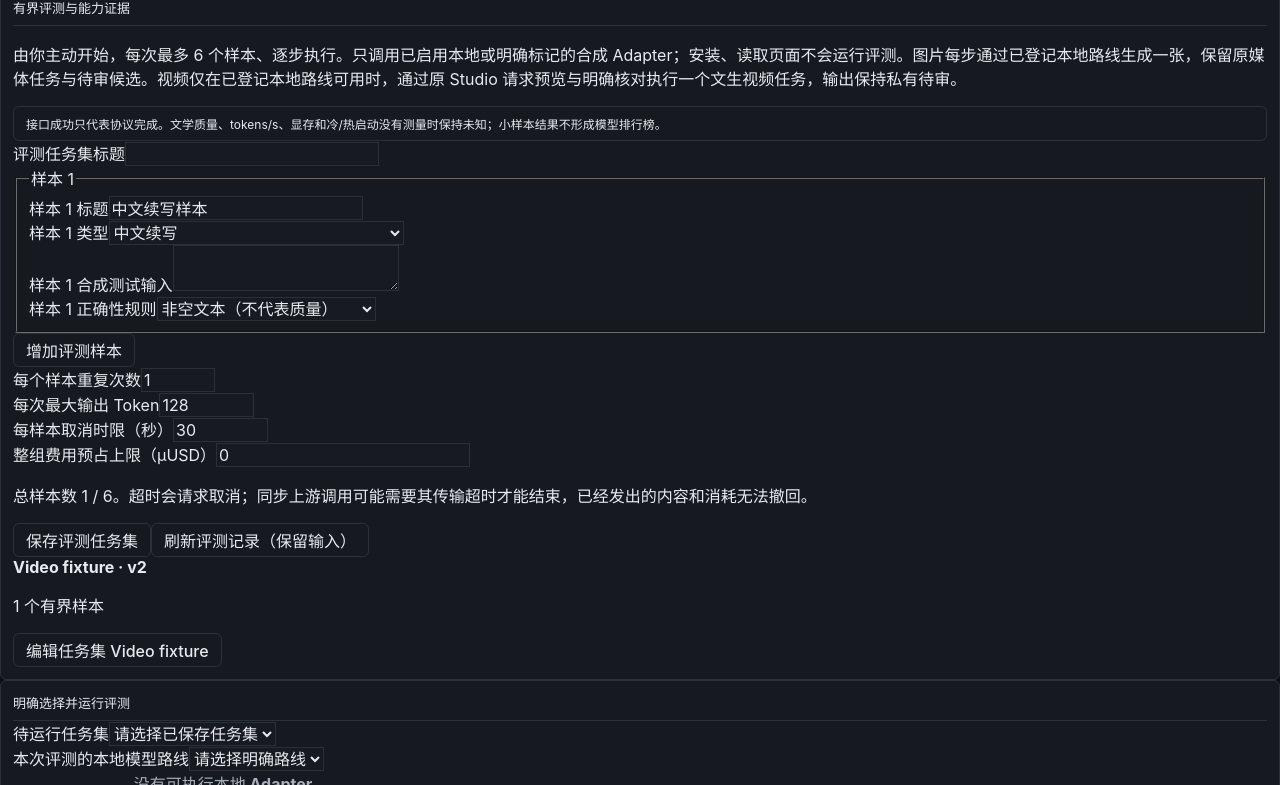
Test: bounded local T2V benchmark › fails closed when an older backend has not admitted local T2V
Step 1. Select "Video fixture · v2" in the dropdown labelled "待运行任务集" → x=192, y=734, box x1=109 y1=722 x2=276 y2=746
(page scrolled)
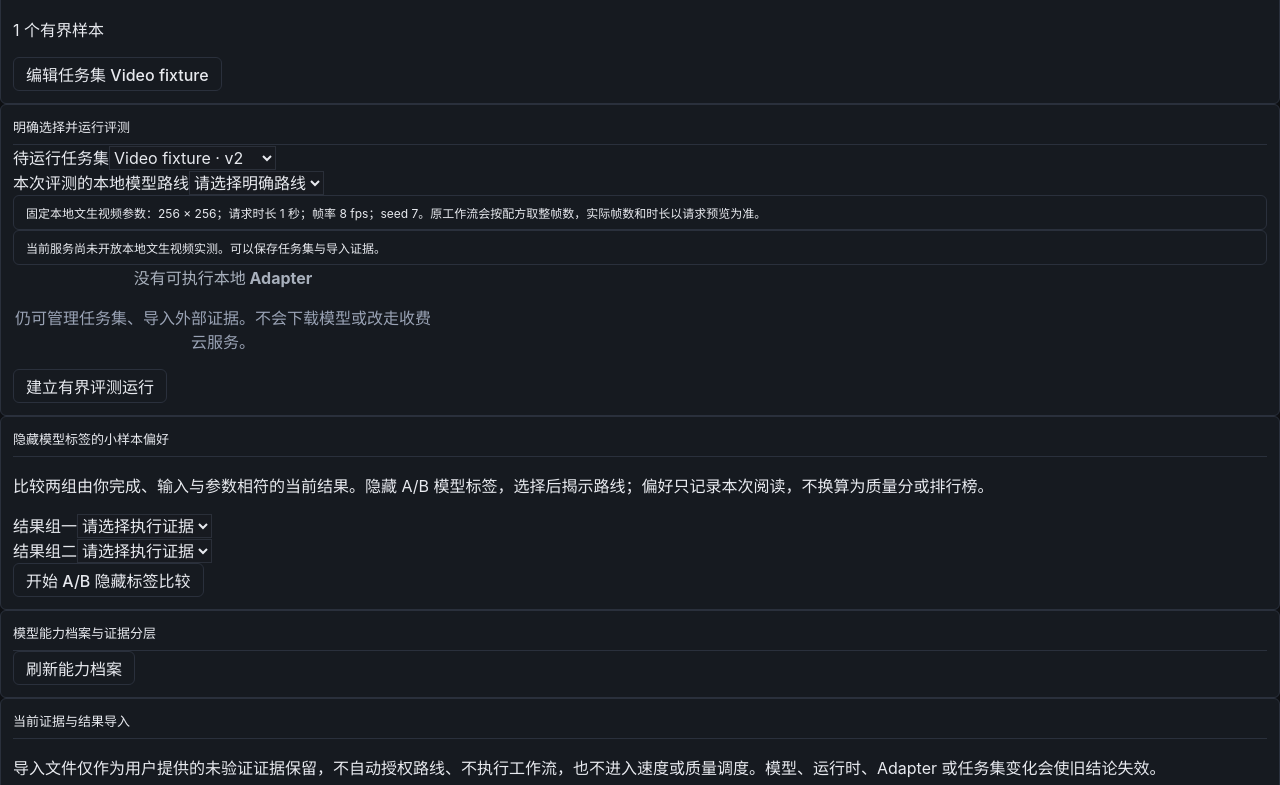
Expected: the button "建立有界评测运行" is disabled, x1=13 y1=369 x2=167 y2=403
Expected: the text "当前服务尚未开放本地文生视频实测。可以保存任务集与导入证据。" is shown, x1=13 y1=230 x2=1267 y2=265
